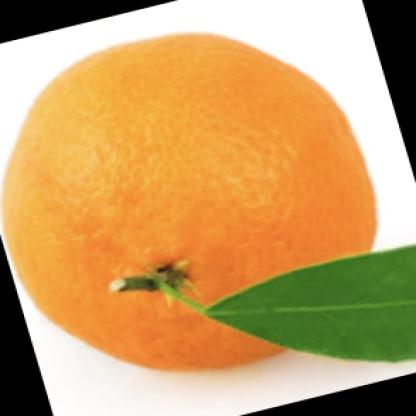fresh: (11, 34, 384, 373)
